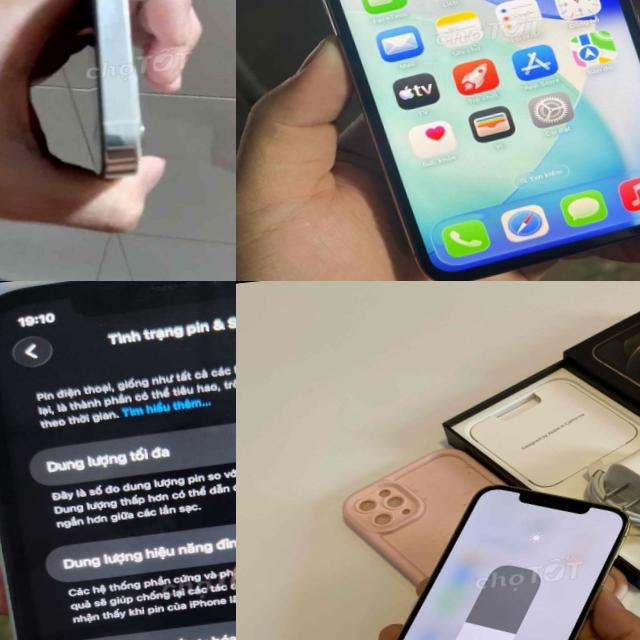gen_11: (270, 0, 640, 281), (0, 281, 236, 640)
gen_12_13: (324, 466, 640, 640), (63, 0, 194, 178)
